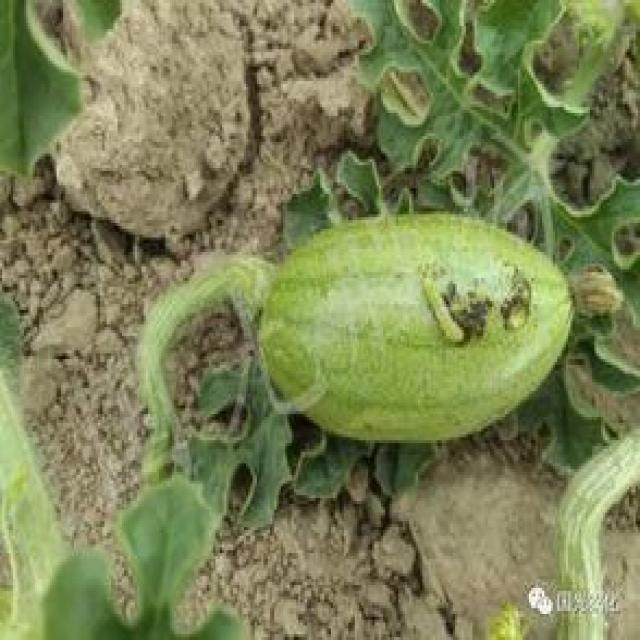BeetArmyWorm-Larva-: (418, 274, 470, 353)
